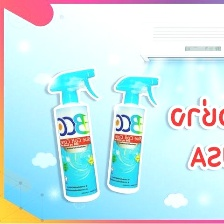cleaning_solution: (44, 64, 104, 203), (105, 73, 162, 195)
